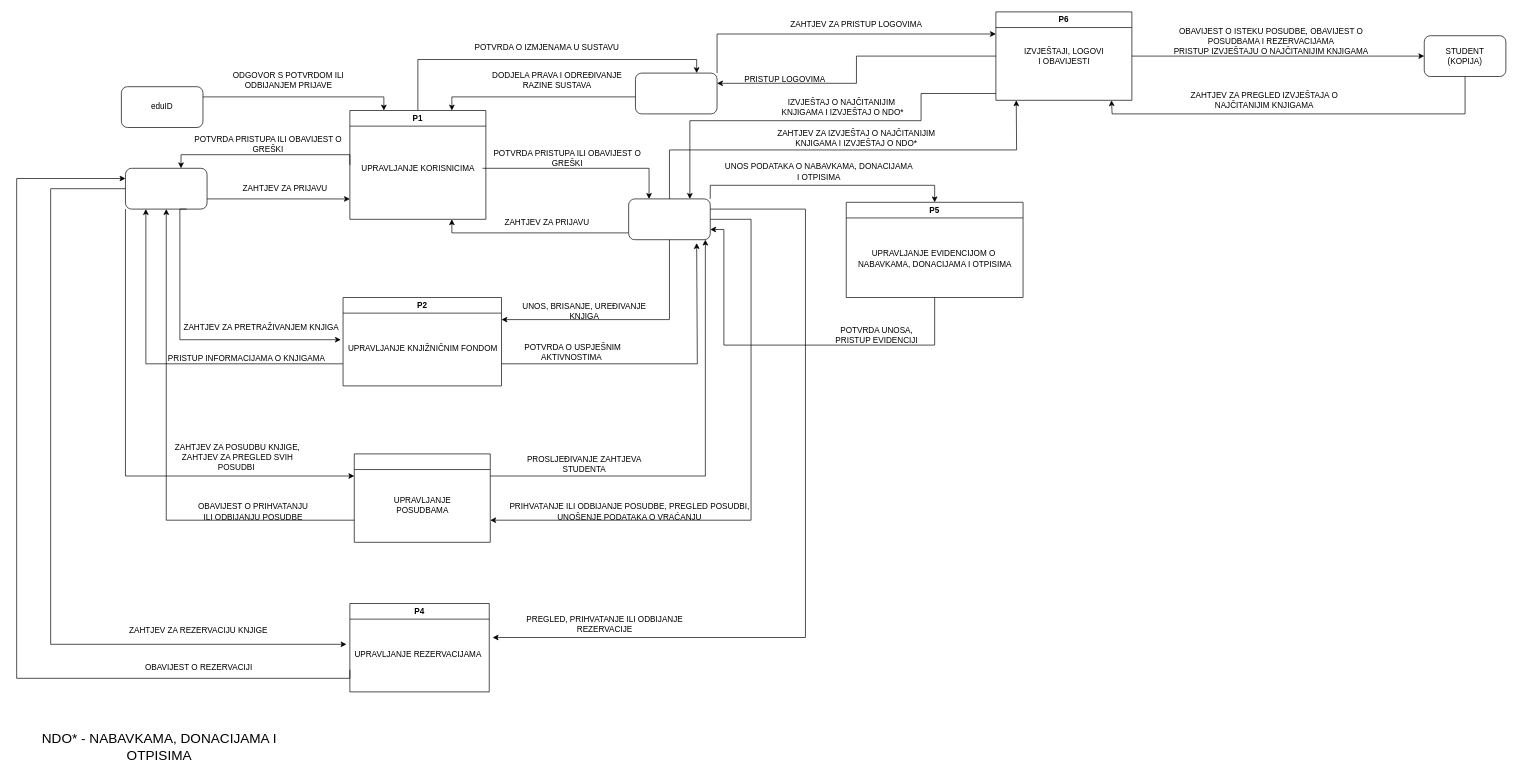
This 1518x779 diagram has some shape labels left out. The box of each missing label's shape, as (x1, y1, x2, y2) in pixels:
ADMINISTRATOR: (635, 72, 717, 114)
KNJIŽNIČAR: (628, 198, 710, 240)
P3: (354, 453, 490, 542)
STUDENT: (125, 168, 207, 209)
